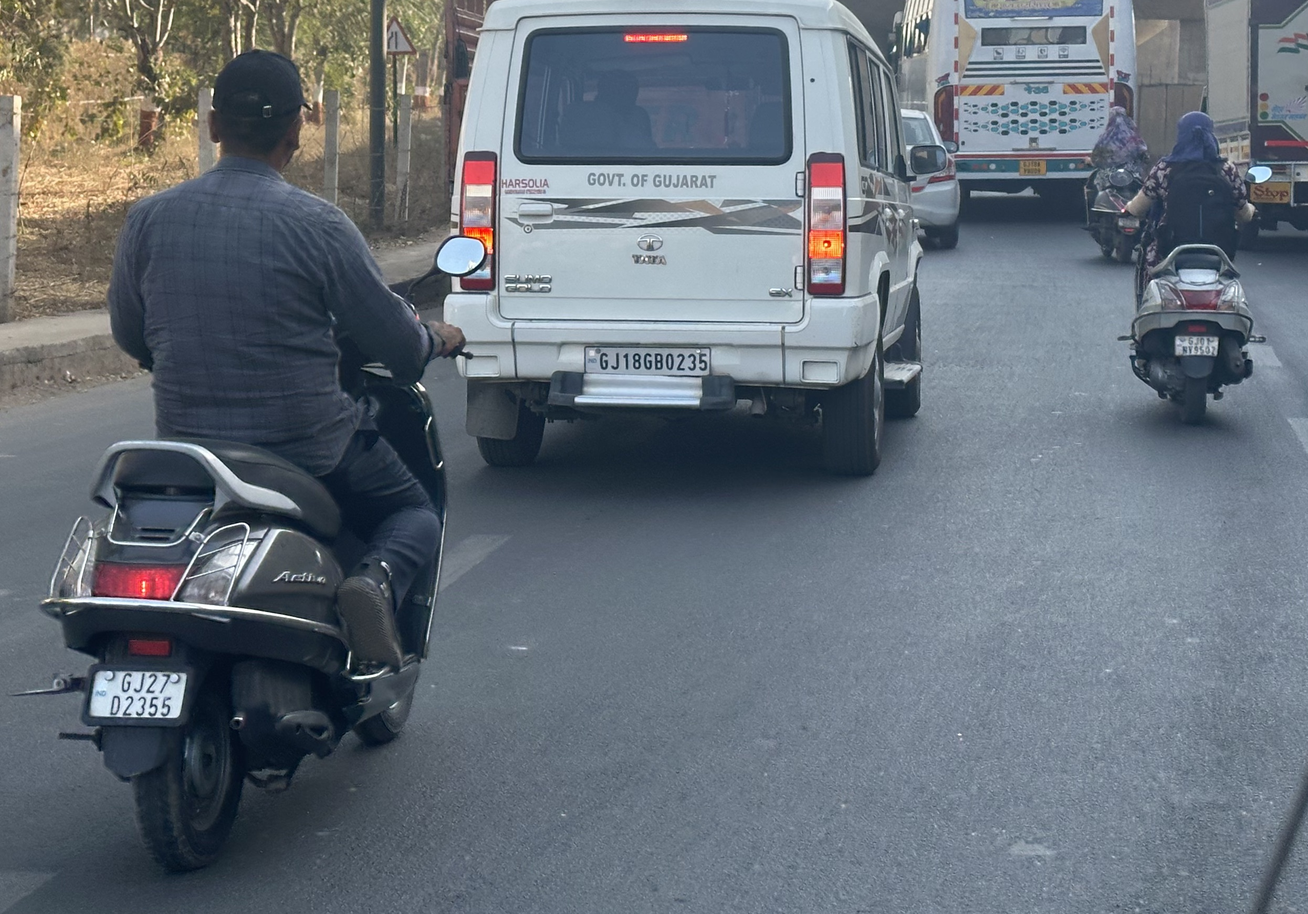BikeWithRider: (0, 36, 496, 886), (1106, 99, 1278, 434), (1070, 94, 1166, 268)
NoHelmet: (195, 41, 319, 174), (1165, 106, 1227, 163), (1104, 104, 1134, 129)
